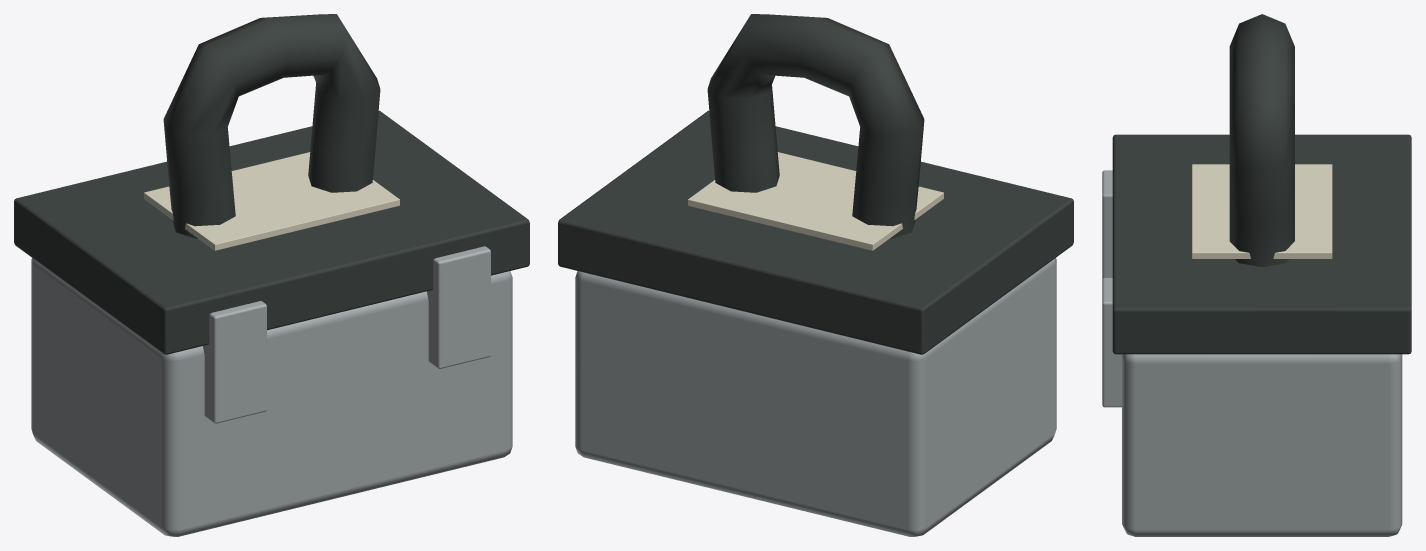
The model's file is survival-food-and-preservation-biscuit-tin-27e2ce09__21736.glb.
3 renders of one model, left to right at view 1: azimuth 30°, elevation 25°; view 2: azimuth 150°, elevation 25°; view 3: azimuth 270°, elevation 25°, orthographic.
Visible parts, largest first — view 1: biscuit-tin, lid/dark; view 2: biscuit-tin, lid/dark; view 3: biscuit-tin, lid/dark.
Boxes of the visible parts, left/top/right/bottom form: biscuit-tin: left=31, top=14, right=512, bottom=536; lid/dark: left=14, top=110, right=529, bottom=354; biscuit-tin: left=575, top=14, right=1056, bottom=536; lid/dark: left=558, top=110, right=1073, bottom=354; biscuit-tin: left=1102, top=14, right=1402, bottom=536; lid/dark: left=1112, top=134, right=1411, bottom=354.
Size of the model in its own units: 0.178 by 0.2007 by 0.1325.
